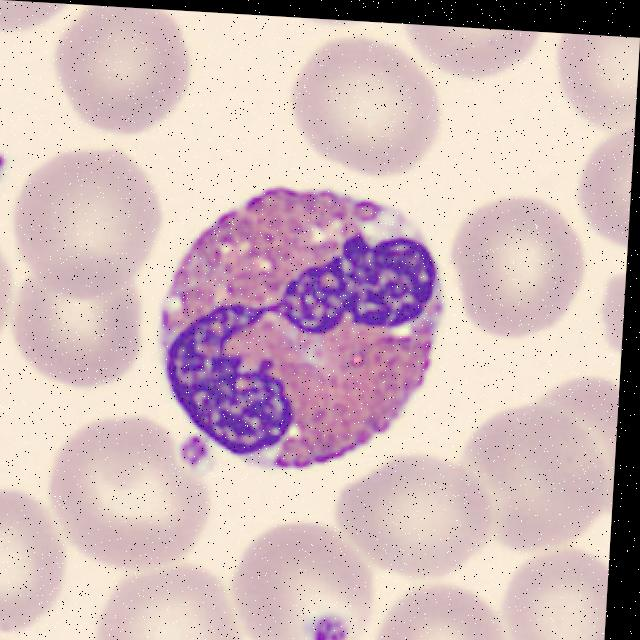eosinophil: (149, 177, 453, 481)
platelets: (176, 424, 214, 480), (298, 603, 355, 640), (0, 151, 4, 198)
rbc: (446, 394, 608, 551), (7, 148, 165, 308), (440, 191, 580, 368), (334, 428, 494, 579), (27, 416, 187, 557), (44, 3, 197, 146), (282, 35, 445, 168), (224, 516, 370, 640), (516, 363, 620, 520), (391, 24, 560, 96), (102, 559, 243, 640), (504, 539, 610, 640), (0, 478, 63, 640), (375, 570, 505, 640), (556, 34, 640, 134), (572, 123, 635, 244), (0, 0, 75, 75), (601, 242, 628, 363), (269, 16, 389, 40), (0, 236, 16, 362), (0, 388, 7, 493)
